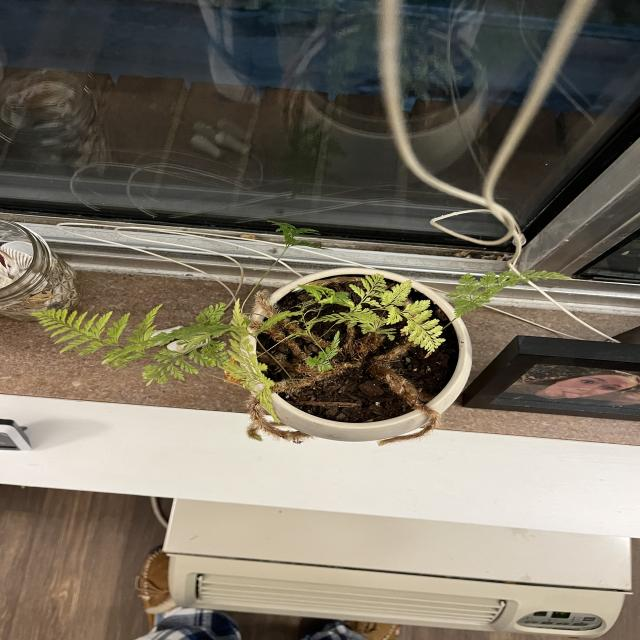Fern1: (0, 200, 640, 454)
